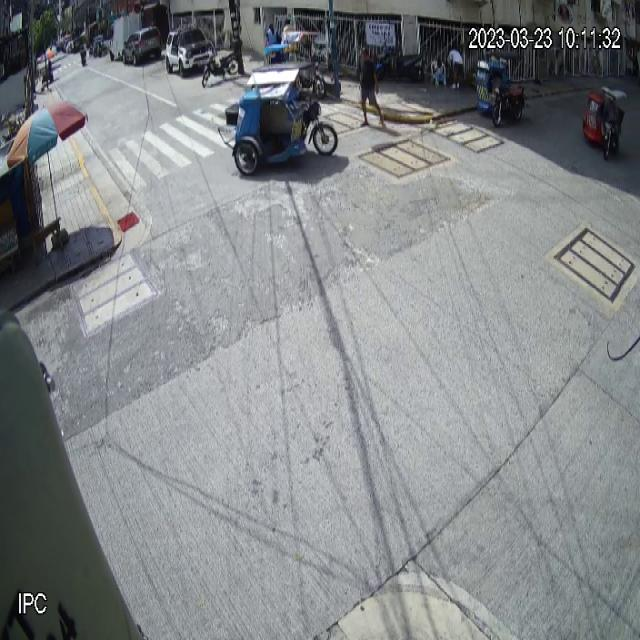Tricycle: (218, 61, 339, 182), (476, 59, 530, 129), (582, 88, 627, 160)
